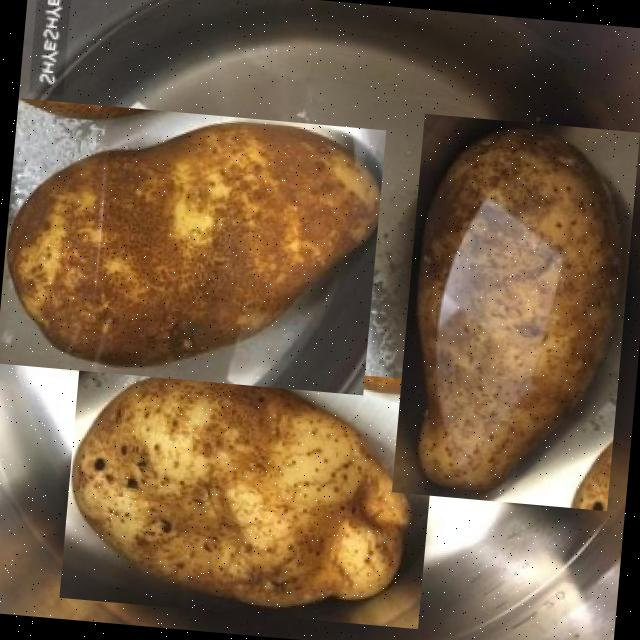Diseased-fungal potato: (0, 97, 386, 394), (59, 350, 439, 628), (392, 112, 640, 510)
